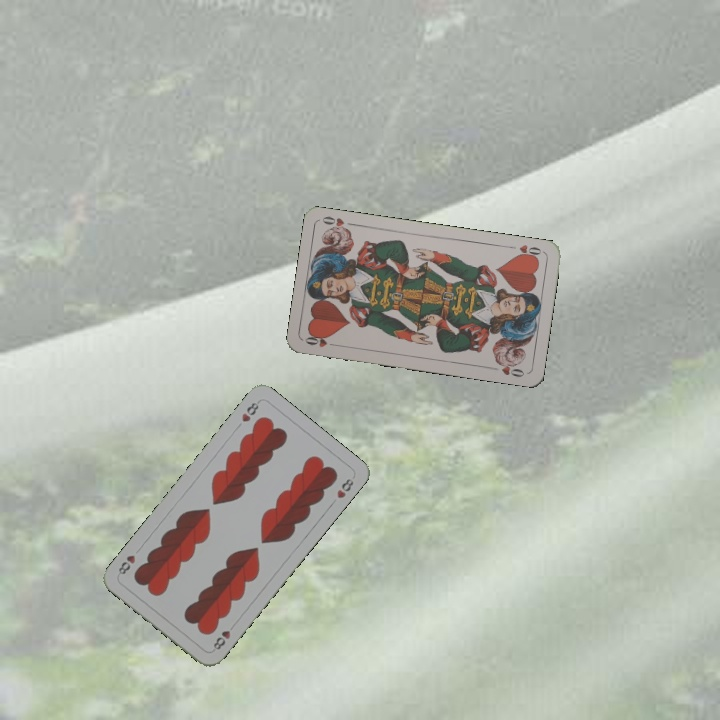H8: (209, 619, 238, 652), (237, 397, 262, 425)
HO: (505, 240, 545, 261), (301, 331, 341, 350)
